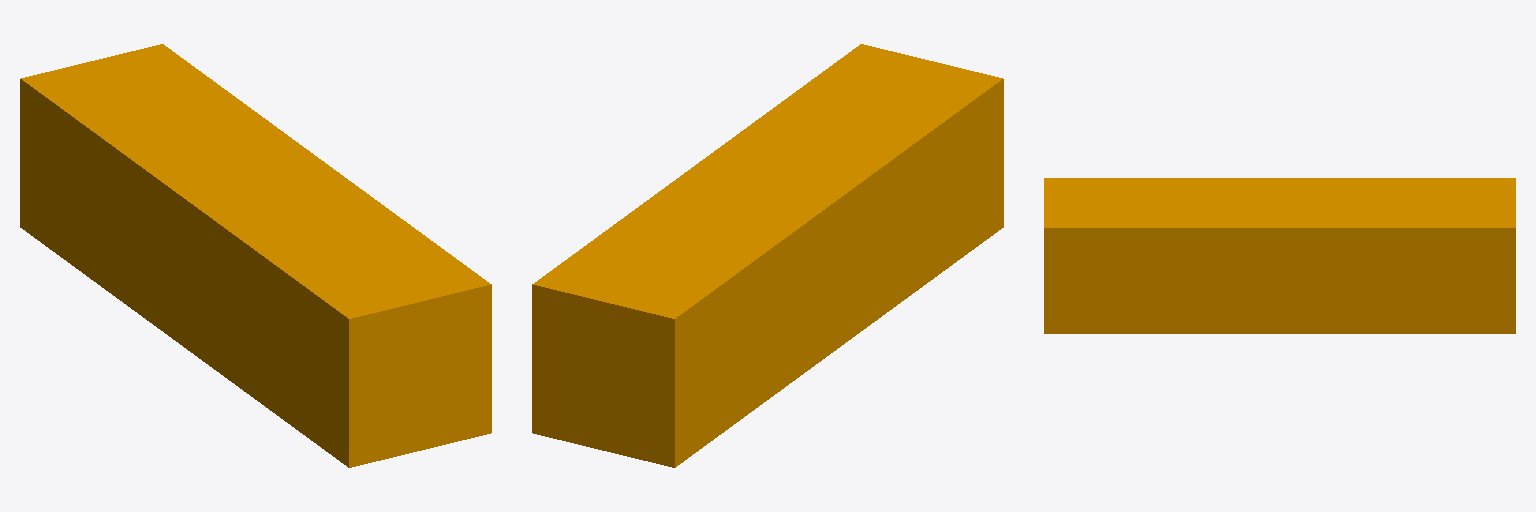
robot.urdf — object:
<?xml version="1.0"?>
<robot name="object">
  <link name="object">
    <visual>
      <origin xyz="0 0 0"/>
      <geometry>
        <mesh filename="meshes/cube_multicolor.obj" scale=".02 .08 .02"/>
      </geometry>
    </visual>
    <collision>
      <origin xyz="0 0 0"/>
      <geometry>
        <box size="0.02 0.08 0.02"/>
      </geometry>
    </collision>
    <inertial>
      <density value="500"/>
    </inertial>
  </link>
</robot>

--- What the picture shows (computed from the rendered views, not written in the file) ---
Views: 3 orthographic renders of the robot side by side, from view 1: azimuth 30°, elevation 25°; view 2: azimuth 150°, elevation 25°; view 3: azimuth 270°, elevation 25°.
Model object with 1 links and 0 joints (none), rooted at object, posed every joint at zero.
Links seen in each view (by area): view 1: object; view 2: object; view 3: object.
Link boxes in pixels (left/top/right/bottom): object: left=20, top=44, right=491, bottom=467; object: left=532, top=44, right=1003, bottom=467; object: left=1044, top=178, right=1515, bottom=333.
Bounding box of the posed robot: 0.02 × 0.08 × 0.02 m (x, y, z).
1 mesh visuals loaded from 1 distinct referenced files (1 OBJ).
